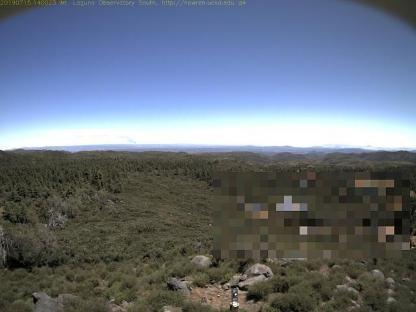smoke: (120, 134, 138, 144)
